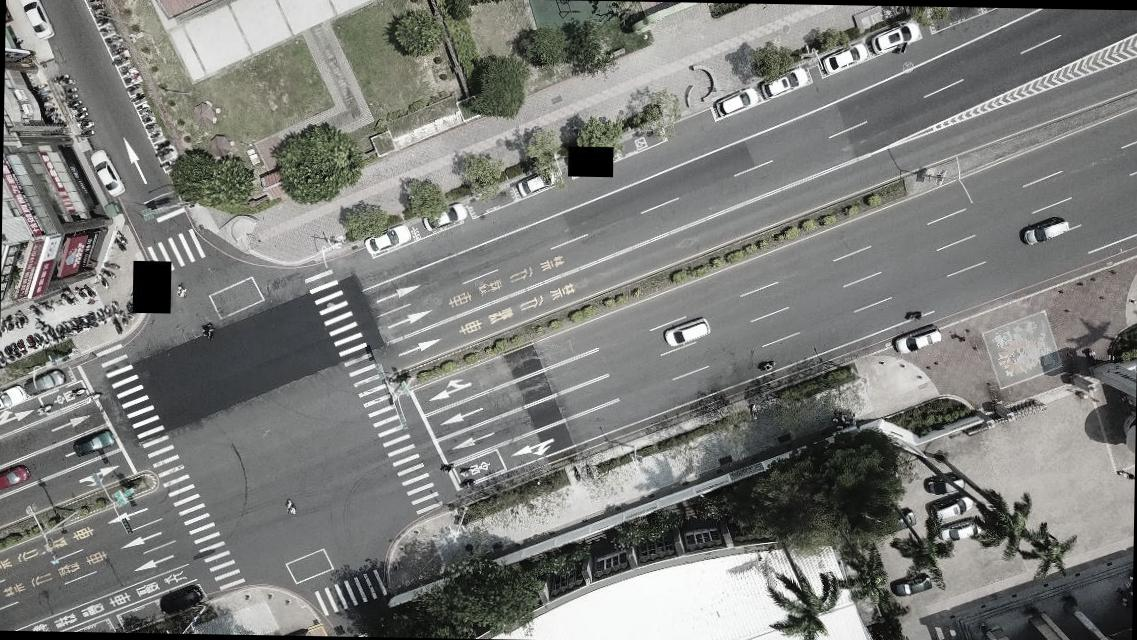vehicle: (758, 65, 808, 101), (872, 18, 920, 55), (821, 41, 869, 76), (14, 0, 54, 42), (90, 150, 125, 197), (892, 322, 943, 353), (156, 584, 204, 616), (663, 314, 710, 346), (364, 222, 410, 254), (422, 202, 468, 232), (1023, 216, 1068, 246), (716, 86, 758, 118), (515, 166, 557, 197), (937, 516, 982, 544), (73, 429, 116, 457), (24, 368, 66, 396), (890, 572, 933, 598), (932, 494, 973, 519), (925, 471, 964, 495), (0, 463, 31, 492), (884, 508, 916, 534), (0, 383, 27, 409)
